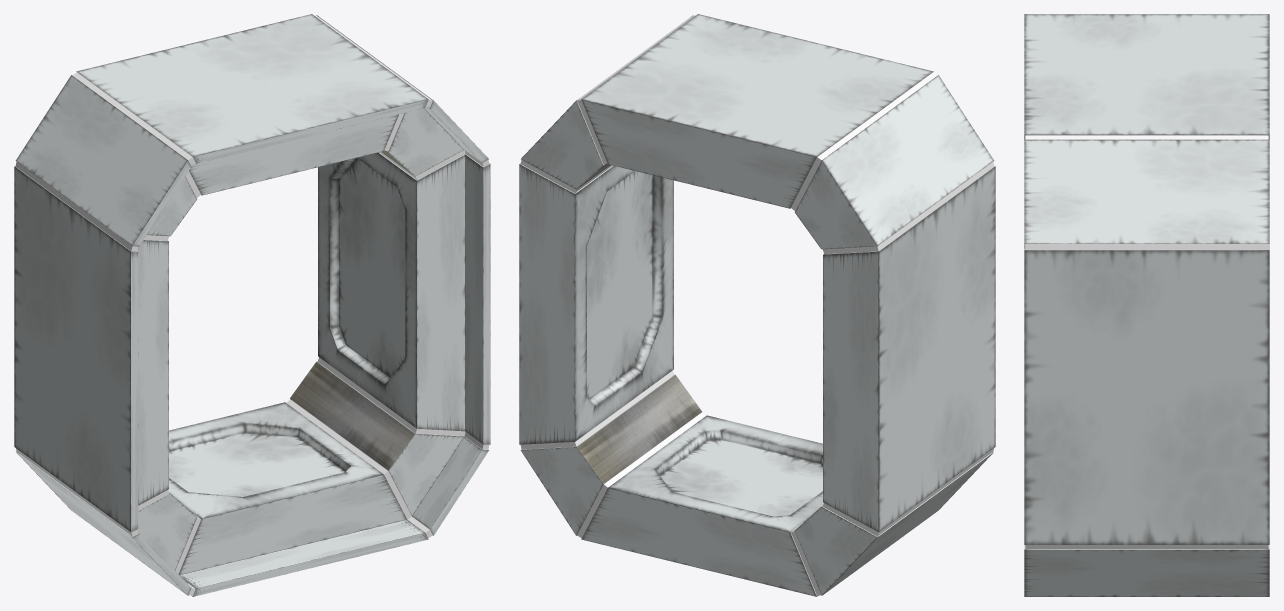
The model's file is corridor.fbx.
3 views of the same model, side by side, from view 1: azimuth 30°, elevation 25°; view 2: azimuth 150°, elevation 25°; view 3: azimuth 270°, elevation 25° (orthographic). The views are drawn at different scales.
Visible parts, largest first — view 1: corridor; view 2: corridor; view 3: corridor.
Boxes of the visible parts, box(x1,y1,x2,y2) form: corridor: box(14, 14, 490, 596); corridor: box(519, 14, 995, 596); corridor: box(1024, 14, 1269, 596).
Size of the model in its own units: 171 by 200 by 96.02.
